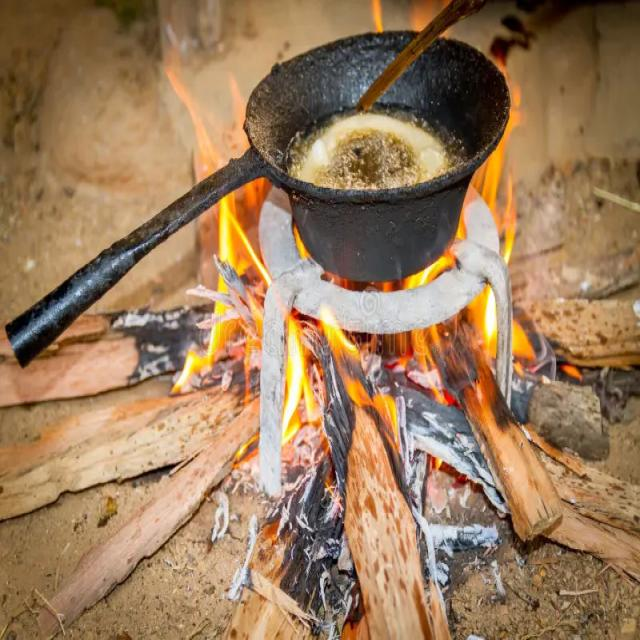fire: (171, 192, 270, 392), (458, 127, 535, 361), (281, 306, 399, 450), (403, 258, 461, 406)
